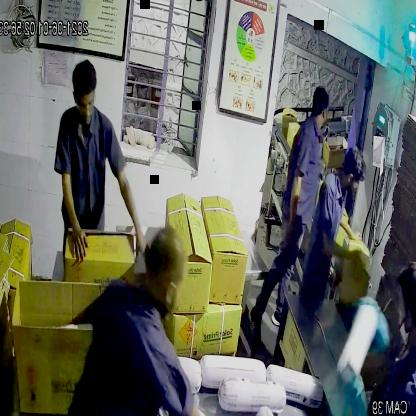goggles: (73, 90, 104, 116)
